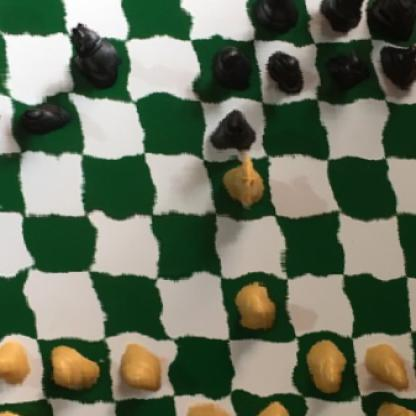black-bishop: (203, 109, 263, 159), (246, 0, 304, 42)
black-king: (61, 22, 127, 88)
black-knight: (313, 0, 372, 36)
black-pawn: (202, 45, 258, 98), (316, 45, 372, 97), (260, 47, 317, 96), (15, 90, 71, 137), (375, 36, 416, 91), (0, 98, 4, 144)
black-rook: (363, 0, 416, 34)
white-king: (234, 401, 305, 416)
white-knight: (217, 151, 271, 212), (370, 402, 416, 416)
white-pawn: (40, 342, 105, 395), (356, 338, 413, 397), (229, 283, 289, 335), (113, 342, 174, 390), (301, 346, 353, 390), (0, 331, 31, 393)
white-queen: (176, 395, 241, 416)
white-rook: (0, 406, 44, 416)
